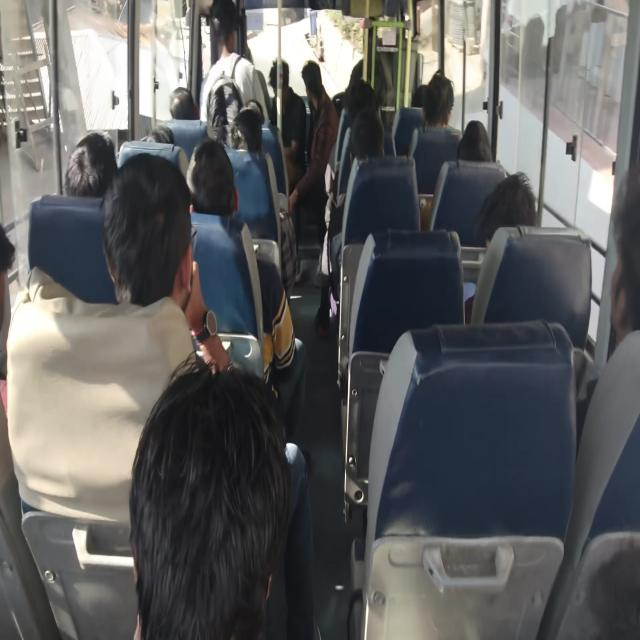person: (107, 370, 256, 578), (113, 161, 186, 295), (600, 206, 640, 409), (485, 190, 565, 281), (0, 217, 32, 361), (62, 141, 117, 210), (188, 148, 226, 213), (226, 112, 274, 158), (458, 123, 504, 164), (340, 78, 388, 117), (345, 113, 380, 162), (424, 85, 458, 133), (217, 0, 244, 49), (165, 90, 198, 129), (301, 68, 323, 108), (240, 93, 267, 123), (269, 60, 291, 96), (154, 120, 178, 152), (411, 80, 428, 109)
